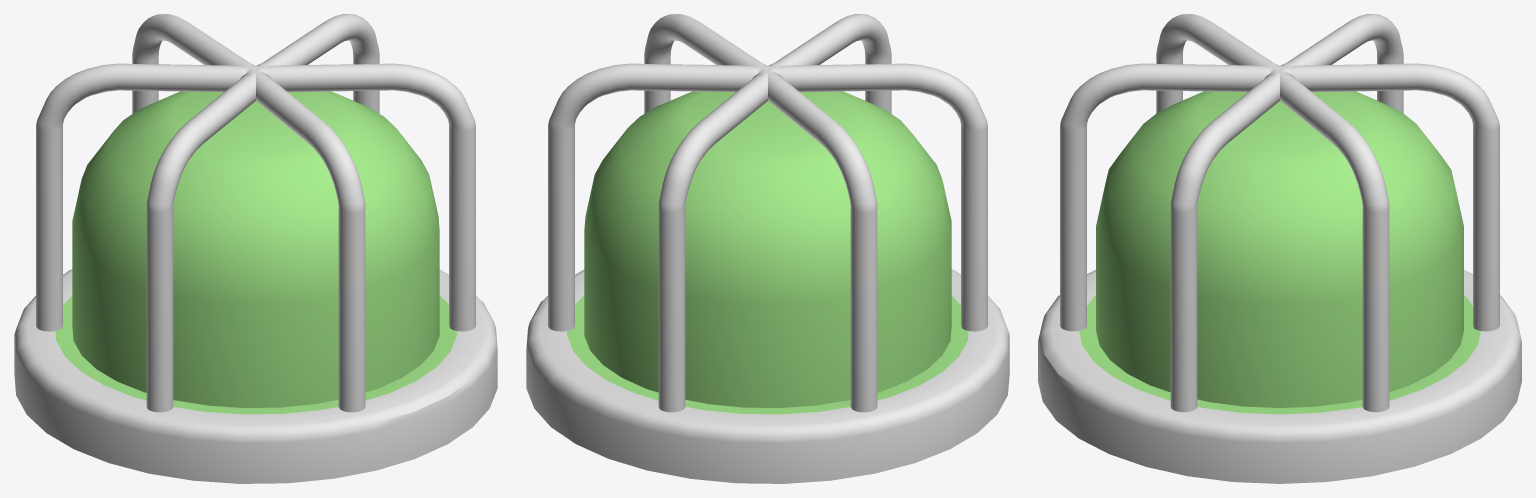
File: Lamp.fbx
3 renders of one model, left to right at view 1: azimuth 30°, elevation 25°; view 2: azimuth 150°, elevation 25°; view 3: azimuth 270°, elevation 25°, orthographic.
Visible parts, largest first — view 1: Cylinder, Cylinder.001; view 2: Cylinder, Cylinder.001; view 3: Cylinder, Cylinder.001.
Boxes of the visible parts, left/top/right/bottom form: Cylinder: left=14, top=91, right=497, bottom=483; Cylinder.001: left=36, top=14, right=475, bottom=412; Cylinder: left=526, top=91, right=1009, bottom=483; Cylinder.001: left=548, top=14, right=987, bottom=412; Cylinder: left=1038, top=91, right=1521, bottom=483; Cylinder.001: left=1060, top=14, right=1499, bottom=412.
Size of the model in its own units: 152 by 108 by 152.
